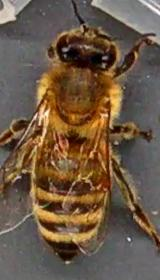varroa_mite: (85, 154, 122, 198)
